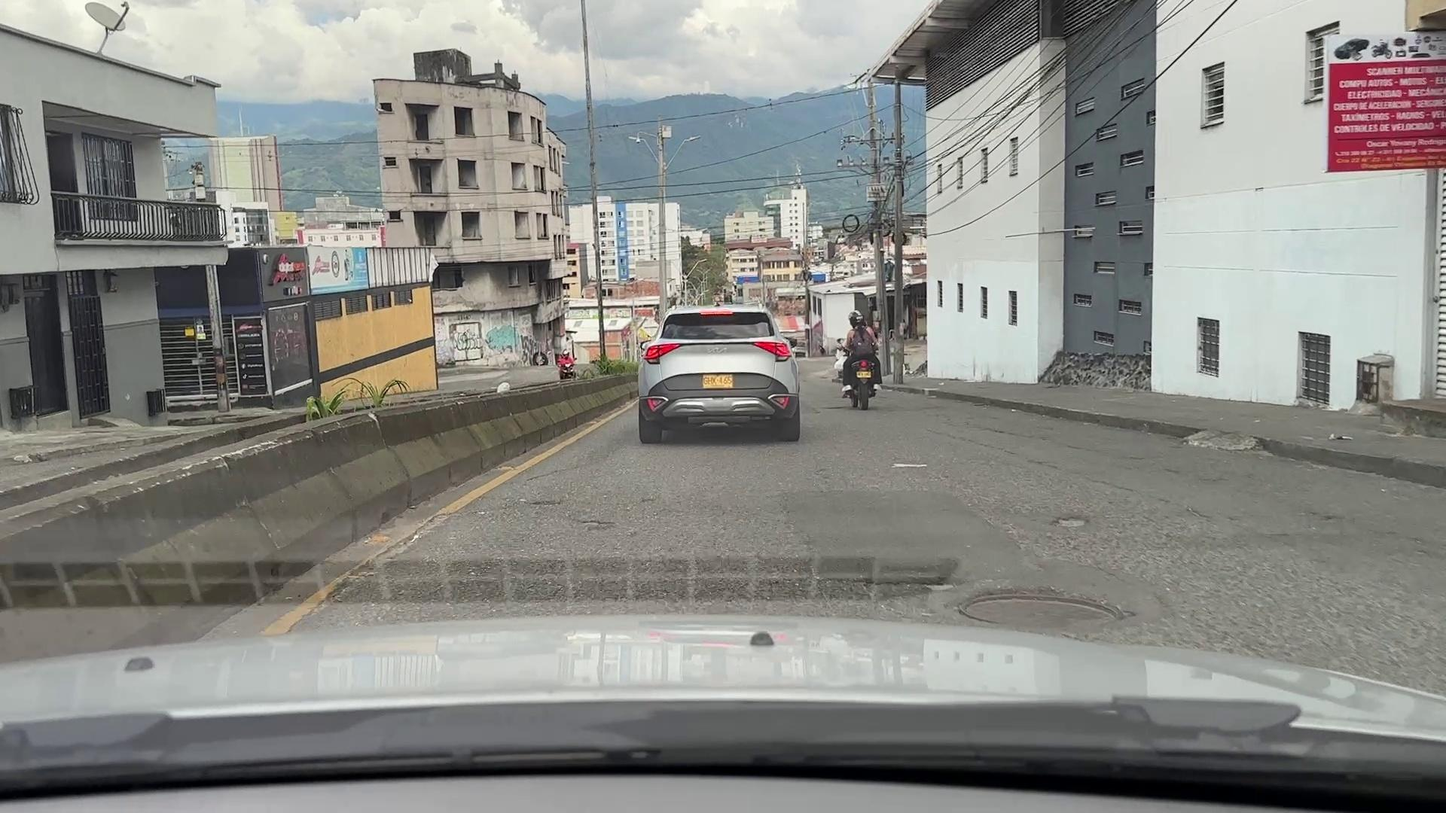bache: (827, 577, 962, 591), (1056, 518, 1084, 527), (892, 463, 926, 468)
registro: (961, 594, 1123, 630)
